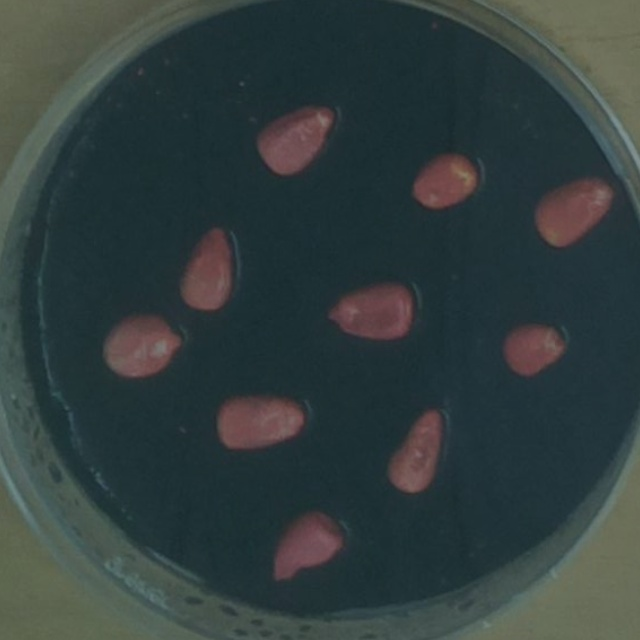Zea mays: (246, 92, 344, 183), (524, 165, 623, 255), (316, 269, 422, 349), (207, 383, 315, 458), (264, 498, 355, 587), (377, 397, 454, 499), (96, 304, 191, 385), (170, 214, 243, 318), (402, 139, 486, 217), (493, 312, 571, 380)
